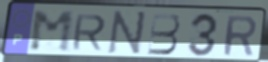3: (187, 12, 220, 59)
B: (146, 12, 182, 56)
M: (29, 10, 76, 54)
N: (105, 10, 149, 57)
R: (222, 15, 258, 58), (69, 14, 108, 52)
